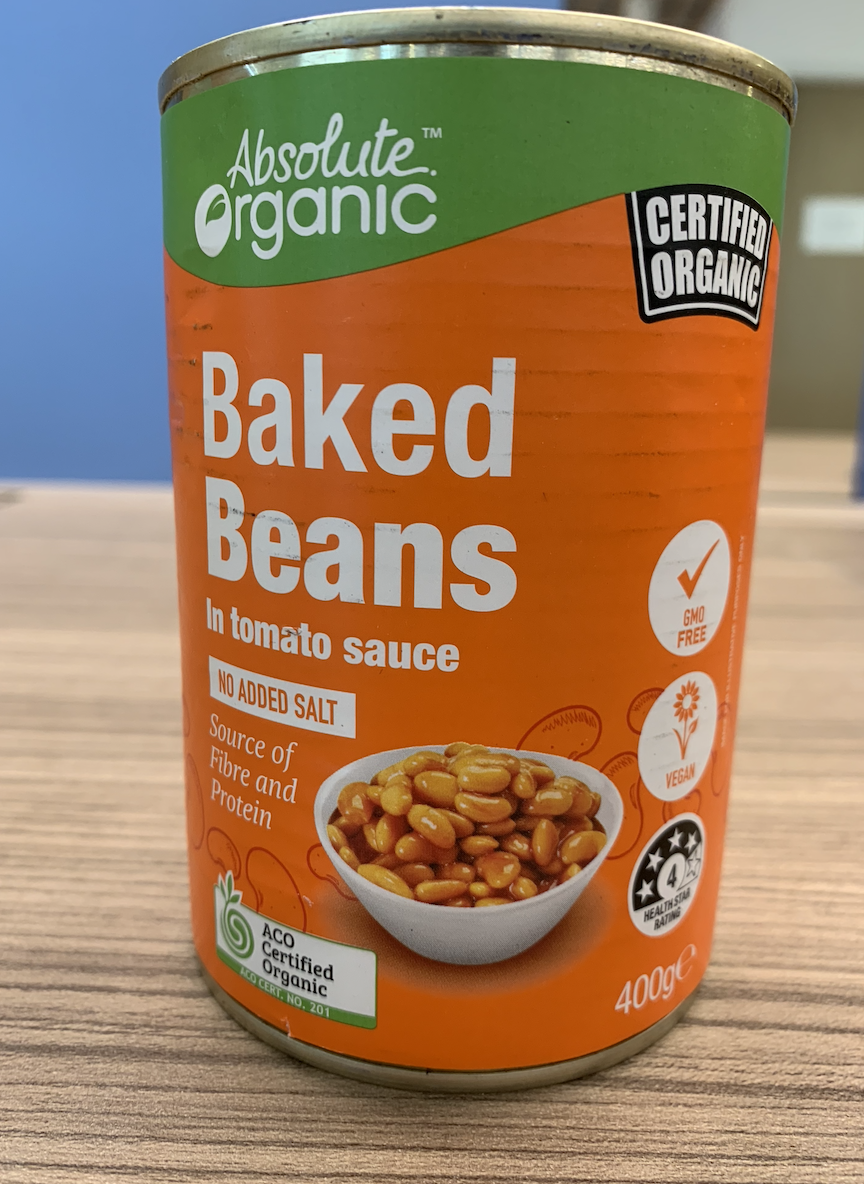Baked beans_400-499g: (188, 111, 744, 1029)
